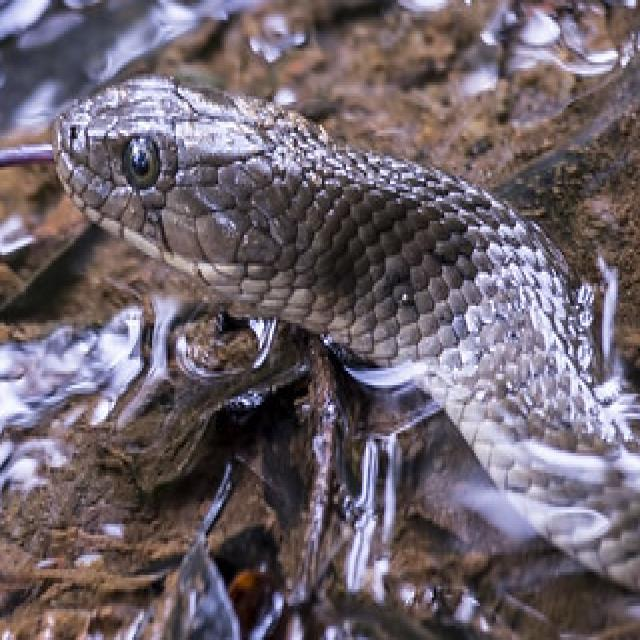Snake: (48, 68, 640, 640)
